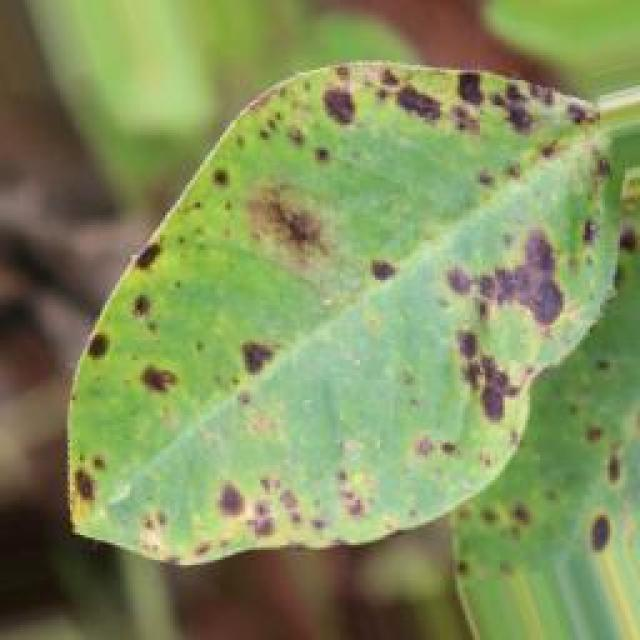Yellowish: (48, 66, 632, 588)
